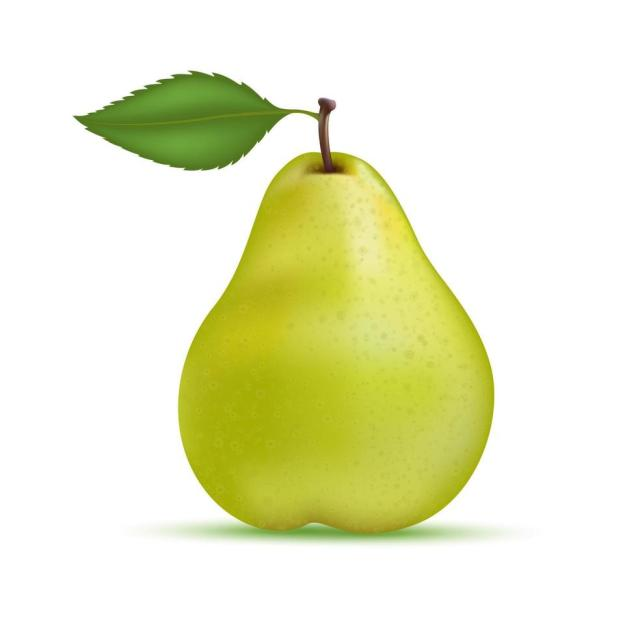pera: (58, 55, 532, 554)
